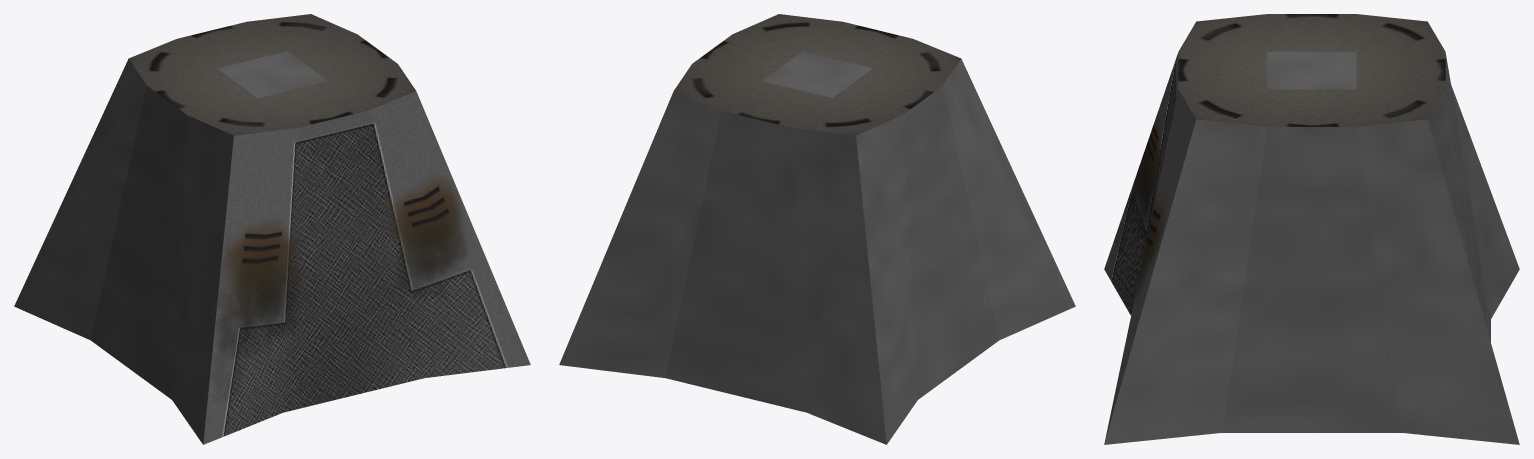
Rendered from TurretBase.fbx.
3 views of the same model, side by side, from view 1: azimuth 30°, elevation 25°; view 2: azimuth 150°, elevation 25°; view 3: azimuth 270°, elevation 25° (orthographic). The views are drawn at different scales.
Parts seen in each view (by area): view 1: TurretStand; view 2: TurretStand; view 3: TurretStand.
Boxes of the visible parts, bbox=[...] form: TurretStand: bbox=[14, 14, 530, 444]; TurretStand: bbox=[559, 14, 1075, 444]; TurretStand: bbox=[1104, 14, 1519, 444].
Size of the model in its own units: 2.25 by 1.72 by 2.25.
1 material, 1 textured.
